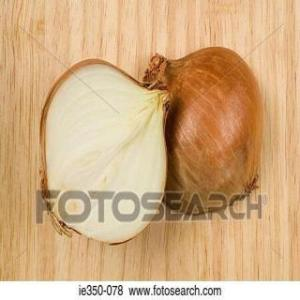onion: (39, 59, 169, 245), (144, 43, 262, 205)
